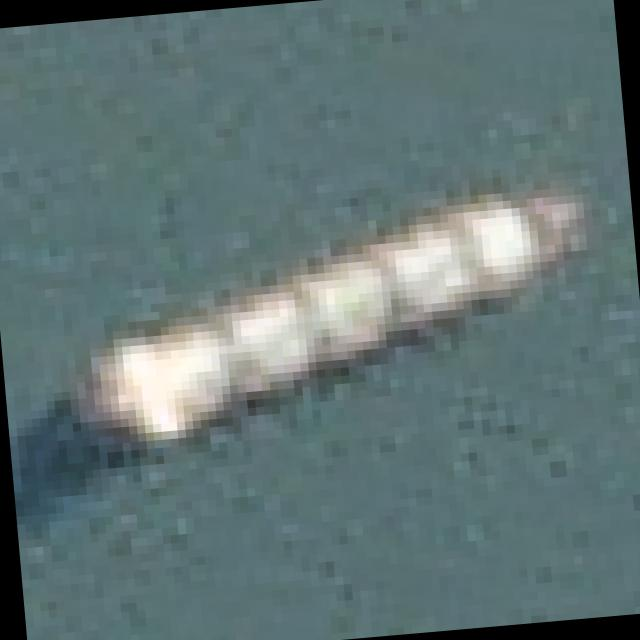ship: (26, 127, 624, 461)
